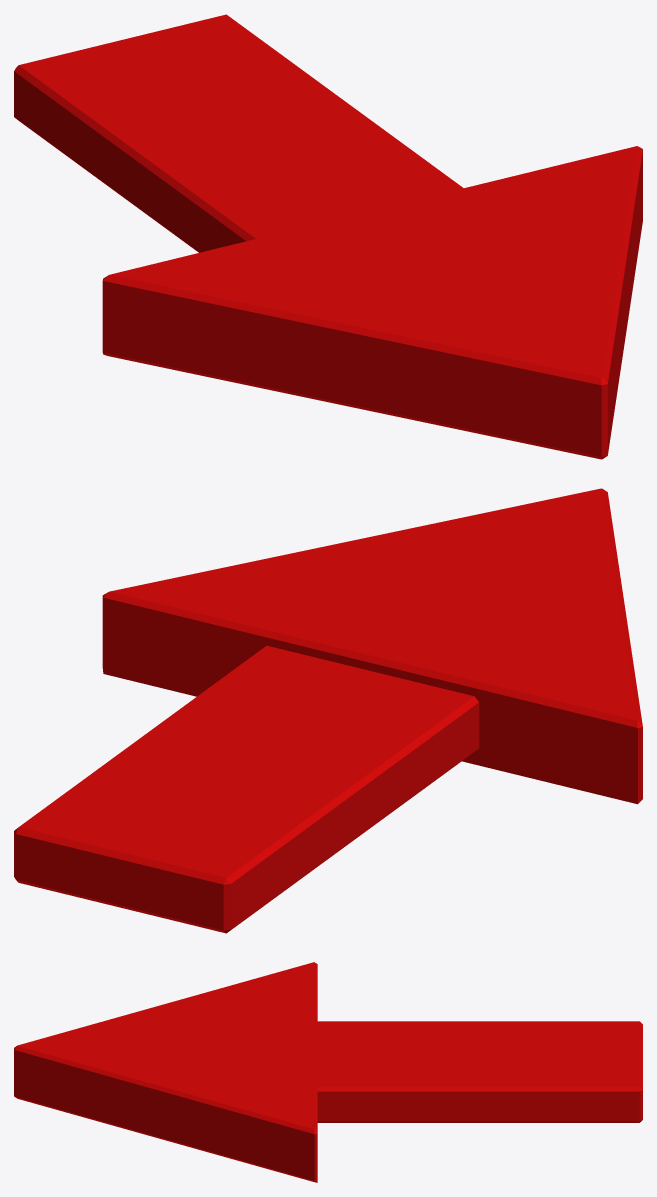
The model's file is Arrow.fbx.
3 views of the same model, one above another, from view 1: azimuth 30°, elevation 25°; view 2: azimuth 150°, elevation 25°; view 3: azimuth 270°, elevation 25° (orthographic). The views are drawn at different scales.
Visible parts, largest first — view 1: pCube1; view 2: pCube1; view 3: pCube1.
Part boxes in pixels (left/top/right/bottom): pCube1: left=14, top=14, right=642, bottom=459; pCube1: left=14, top=488, right=642, bottom=933; pCube1: left=14, top=962, right=642, bottom=1182.
Bounding box in the file's own units: 0.6926 × 0.0999 × 1.08.
